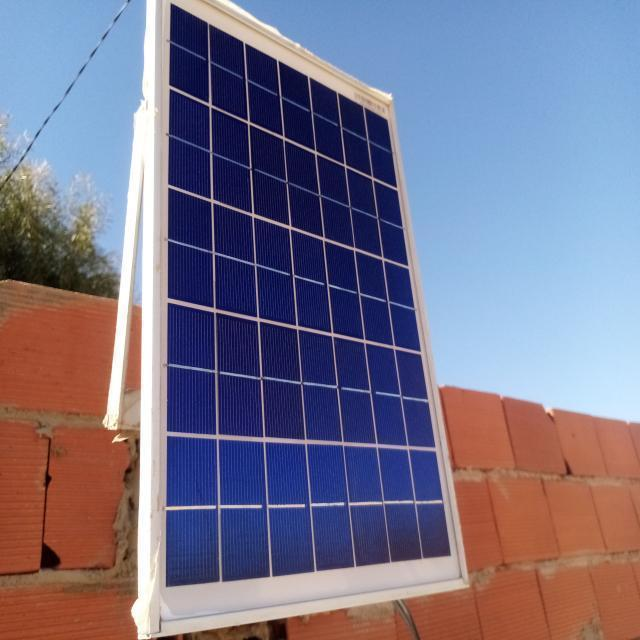Normal Solar Panel: (152, 0, 468, 638)
